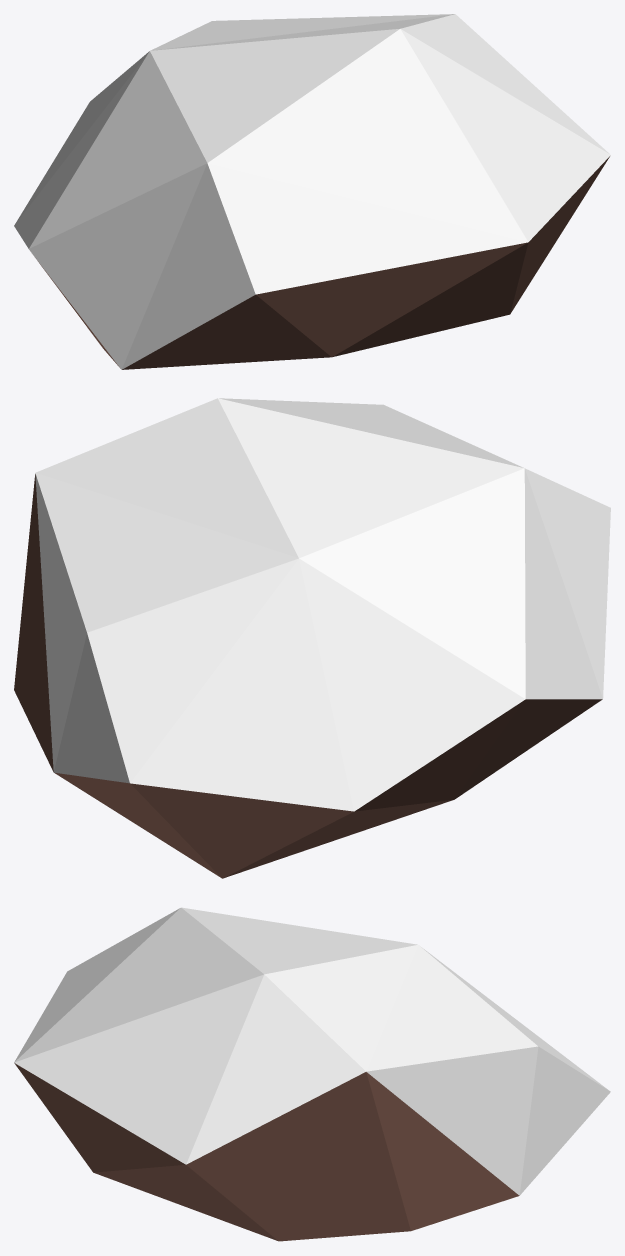
File: snow_stone_004.fbx
The picture shows the model from 3 angles, top to bottom: view 1: azimuth 30°, elevation 25°; view 2: azimuth 150°, elevation 25°; view 3: azimuth 270°, elevation 25°; orthographic projection. The views are drawn at different scales.
Visible parts, largest first — view 1: snow_stone_004; view 2: snow_stone_004; view 3: snow_stone_004.
Boxes of the visible parts, box(x1,y1,x2,y2) form: snow_stone_004: box(14, 14, 610, 369); snow_stone_004: box(14, 398, 610, 878); snow_stone_004: box(14, 907, 610, 1241).
Size of the model in its own units: 63.91 by 75.39 by 38.56.
